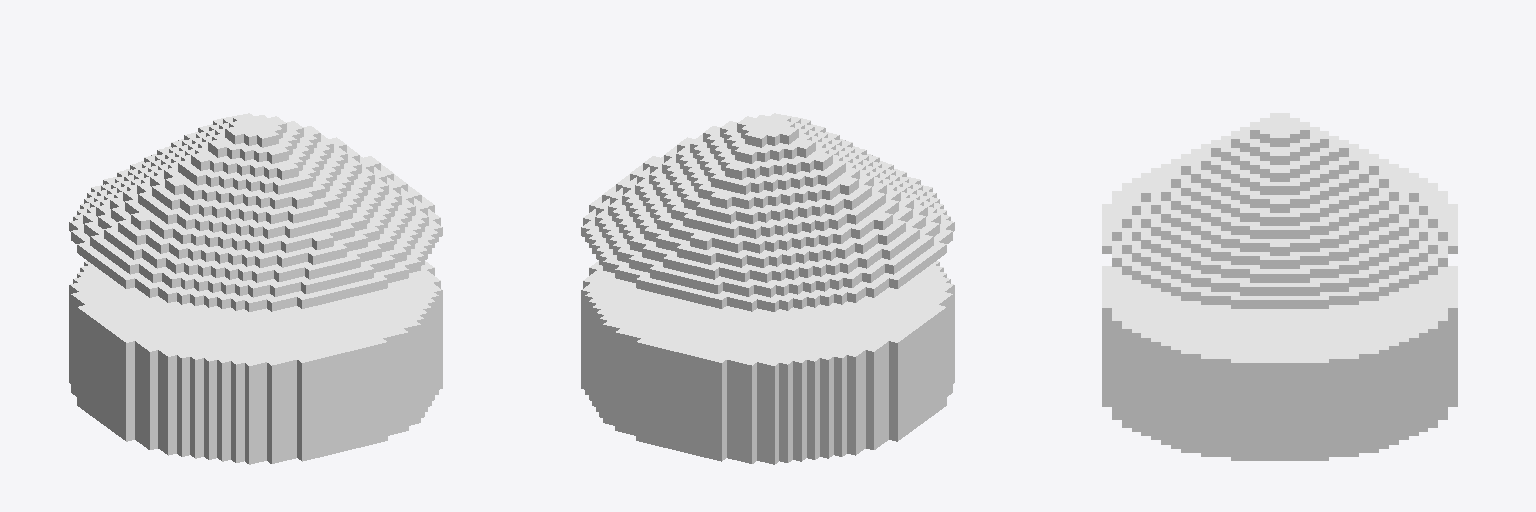
Rendered from thing-0.obj.
The picture shows the model from 3 angles: view 1: azimuth 30°, elevation 25°; view 2: azimuth 150°, elevation 25°; view 3: azimuth 270°, elevation 25°; orthographic projection.
Parts seen in each view (by area): view 1: thing-0; view 2: thing-0; view 3: thing-0.
Boxes of the visible parts, box(x1,y1,x2,y2) form: thing-0: box(69, 113, 442, 464); thing-0: box(581, 113, 954, 464); thing-0: box(1102, 113, 1457, 460).
Size of the model in its own units: 36 by 29 by 36.